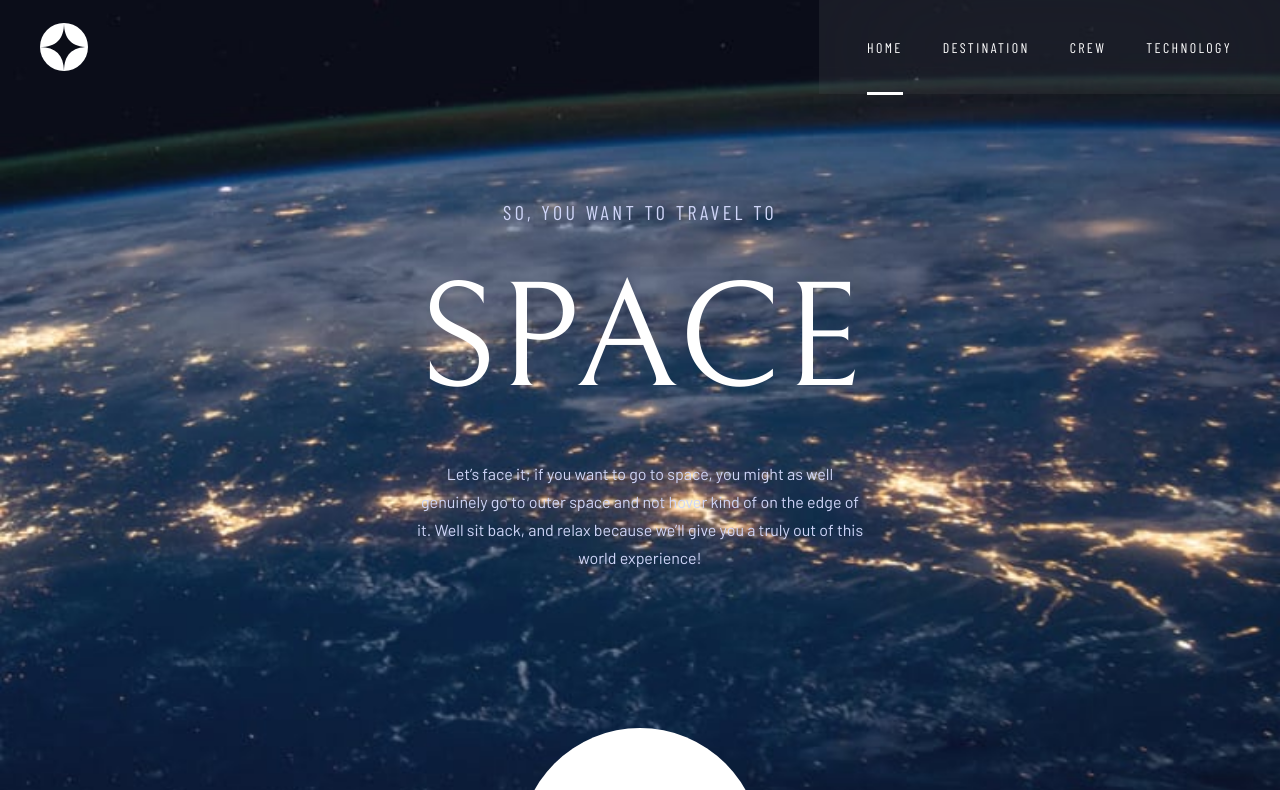
Scenario: Clicking on a link redirects to the correct page › Can visit technology page
The width and height of the screenshot is (1280, 790).
What coordinates should you click on to do the following:
click the link "Technology"
I would click on:
 (1189, 48)
Its box is [1146,39,1232,56].
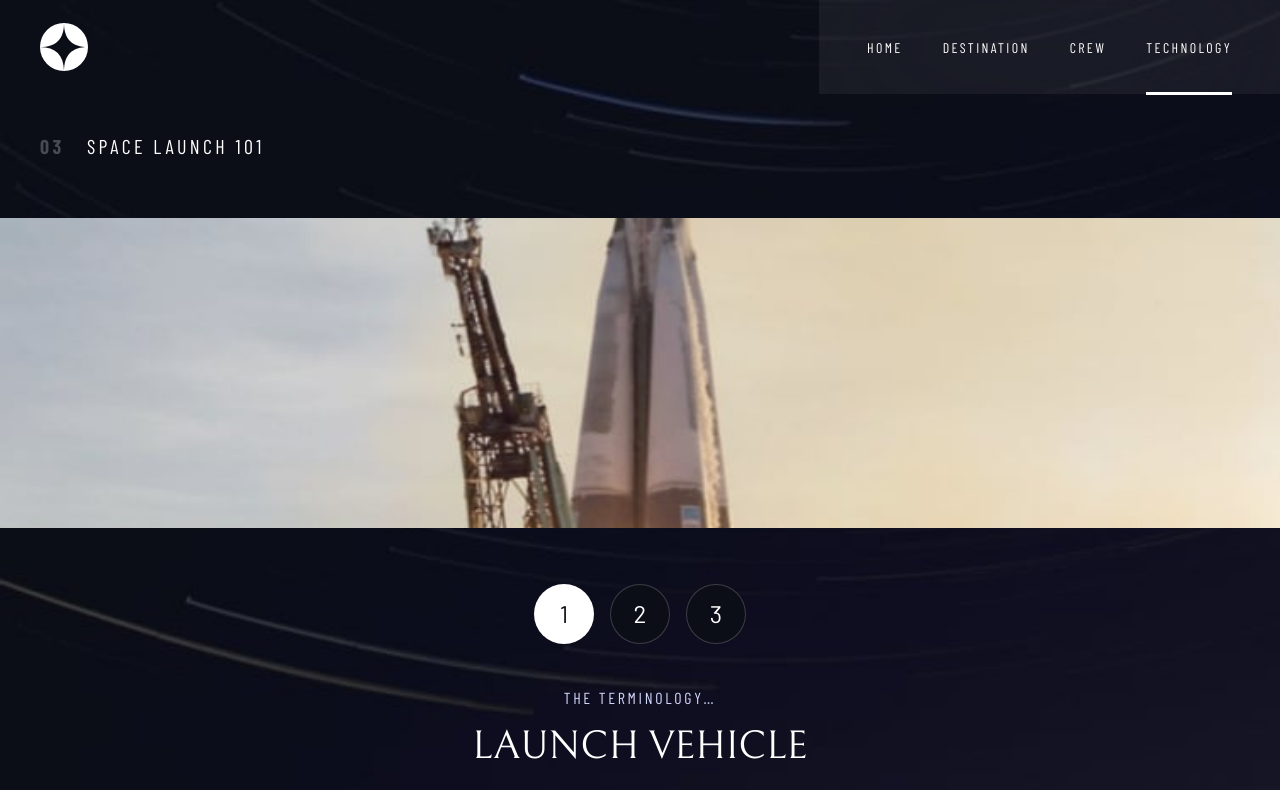
Result: the heading "03Space launch 101" is shown at [40,134,265,158]
